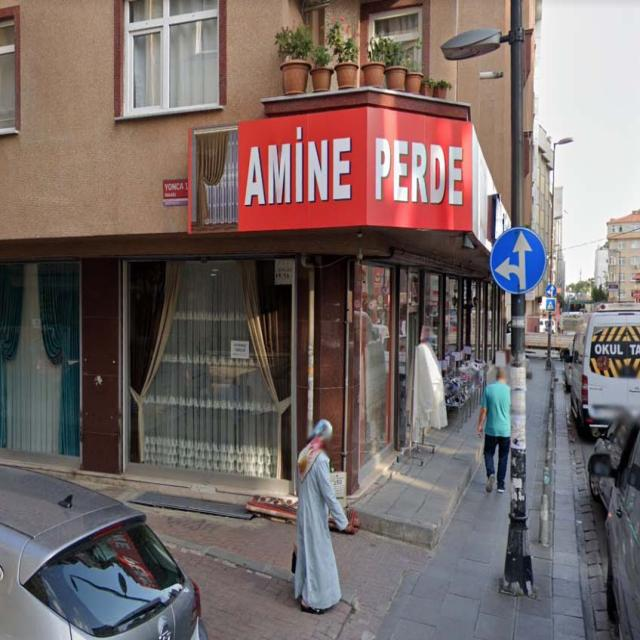ilerisol: (491, 229, 546, 294)
